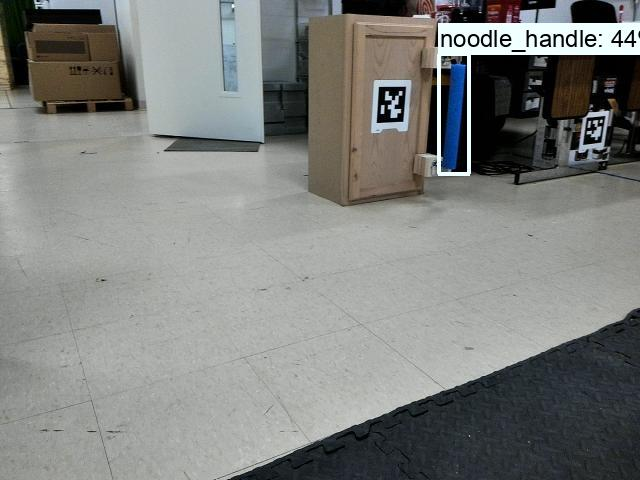noodle_handle: (435, 59, 471, 174)
